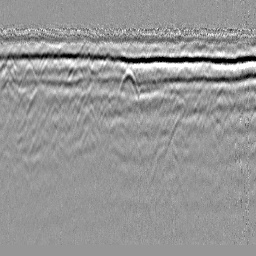cavity: (116, 66, 139, 105)
